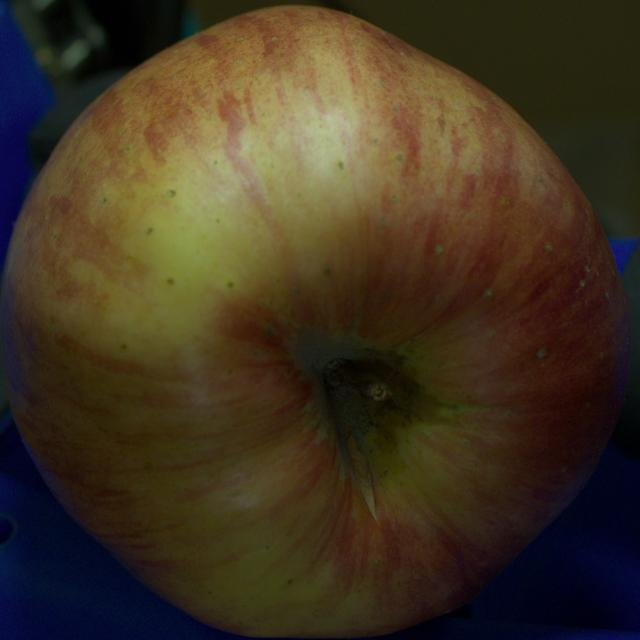apple: (0, 6, 629, 637)
scratch: (347, 429, 376, 517)
